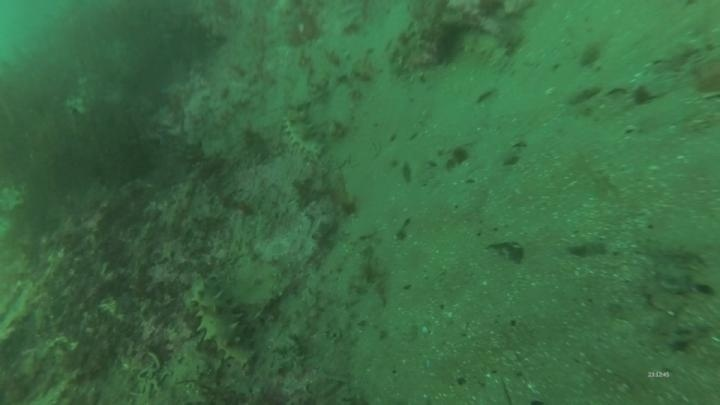holothurian: (187, 271, 258, 373), (280, 103, 326, 163), (454, 27, 519, 66)
